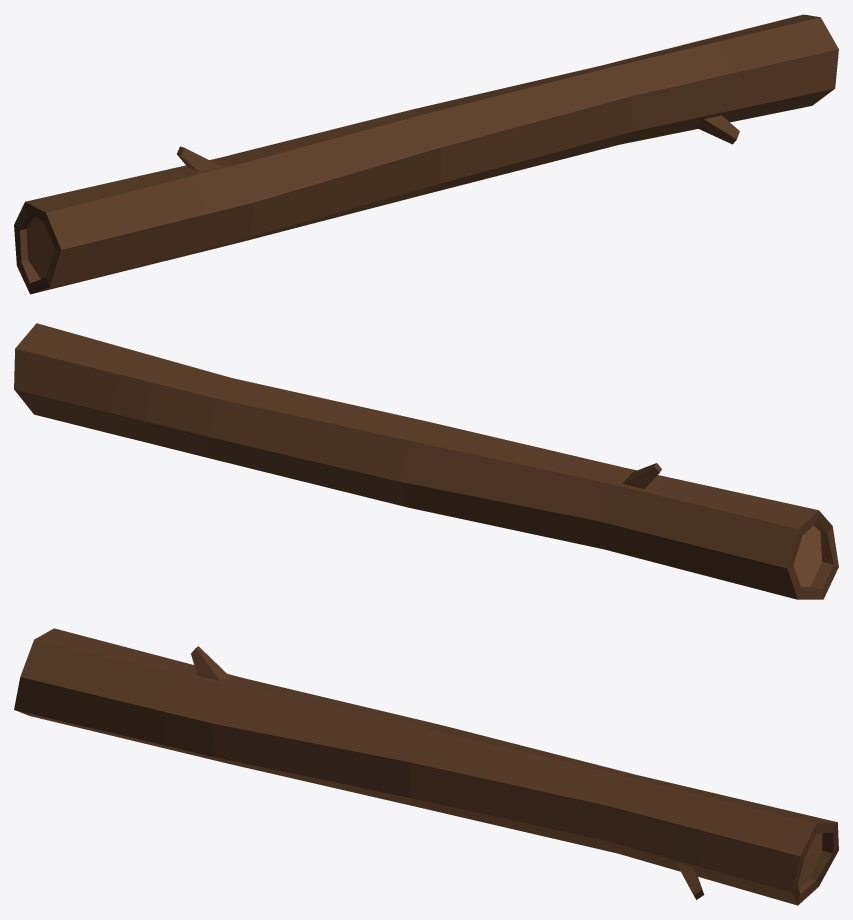
File: SM_Log.fbx
3 renders of one model, top to bottom at view 1: azimuth 30°, elevation 25°; view 2: azimuth 150°, elevation 25°; view 3: azimuth 330°, elevation 25°, orthographic.
Visible parts, largest first — view 1: SM_Log; view 2: SM_Log; view 3: SM_Log.
Part boxes in pixels (left/top/right/bottom): SM_Log: left=14, top=14, right=838, bottom=294; SM_Log: left=14, top=323, right=838, bottom=599; SM_Log: left=14, top=628, right=838, bottom=905.
Size of the model in its own units: 516 by 67.4 by 55.28.
